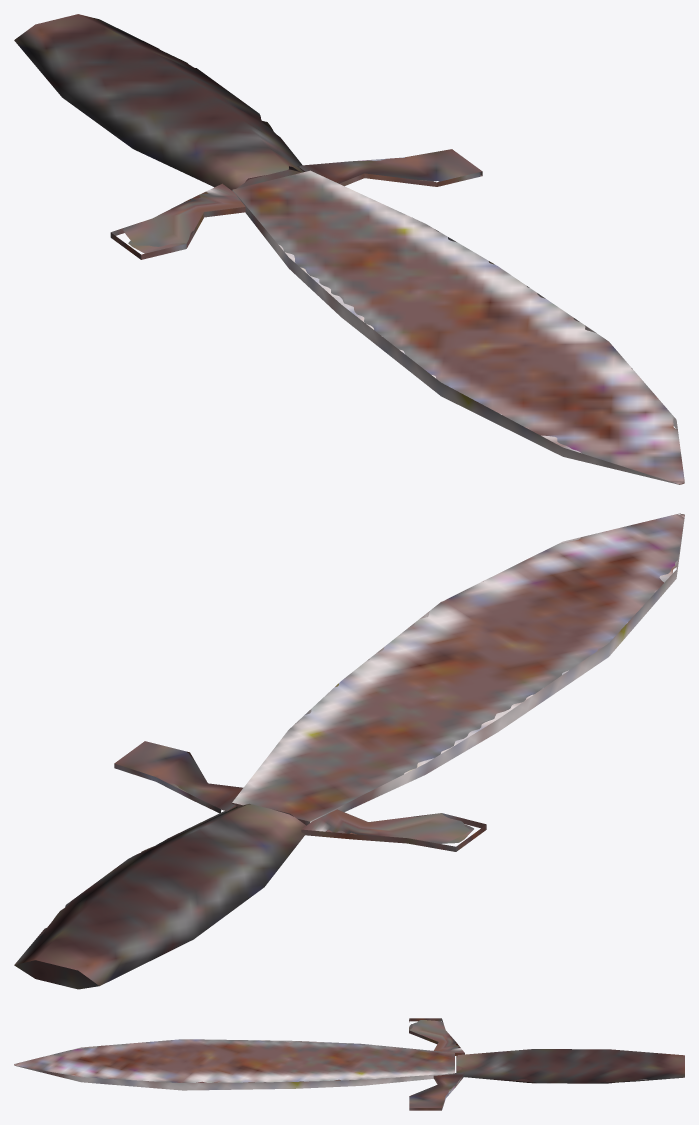
Rendered from knife2.obj.
The picture shows the model from 3 angles, top to bottom: view 1: azimuth 30°, elevation 25°; view 2: azimuth 150°, elevation 25°; view 3: azimuth 270°, elevation 25°; orthographic projection. The views are drawn at different scales.
Parts seen in each view (by area): view 1: Box01; view 2: Box01; view 3: Box01.
Part boxes in pixels (x1,y1,x2,y2): Box01: (14,14,684,484); Box01: (14,513,684,989); Box01: (14,1018,684,1110).
Bounding box in the file's own units: 73.38 × 6.06 × 233.
